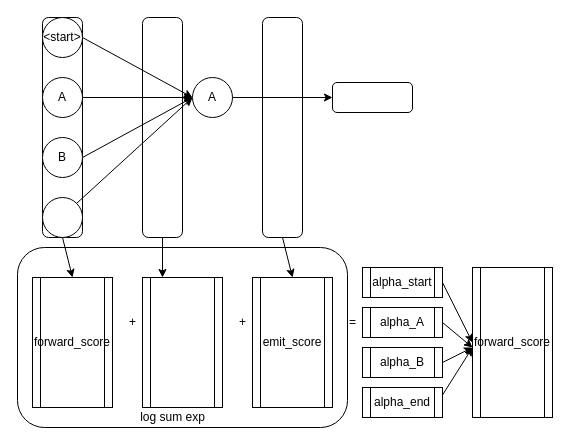
Image size: 570x445. Some labels were removed from this diagram. The shapes that lost their labels are listed below. From the top down, each one's centre as x and y in pixels, then its label:
At pixel 372 97: "father".
At pixel 282 127: "broad cast".
At pixel 62 217: "<end>".
At pixel 182 342: "trans_score".
